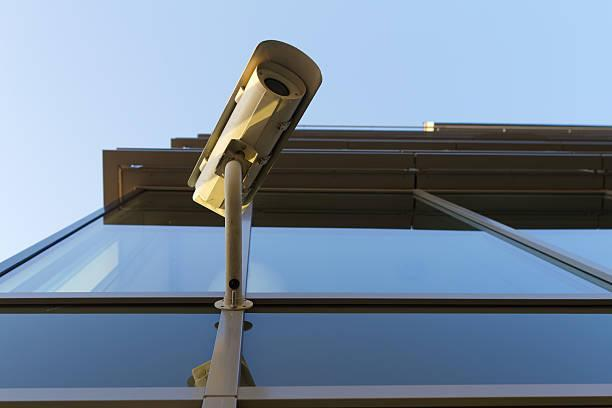camera: (186, 22, 325, 238)
